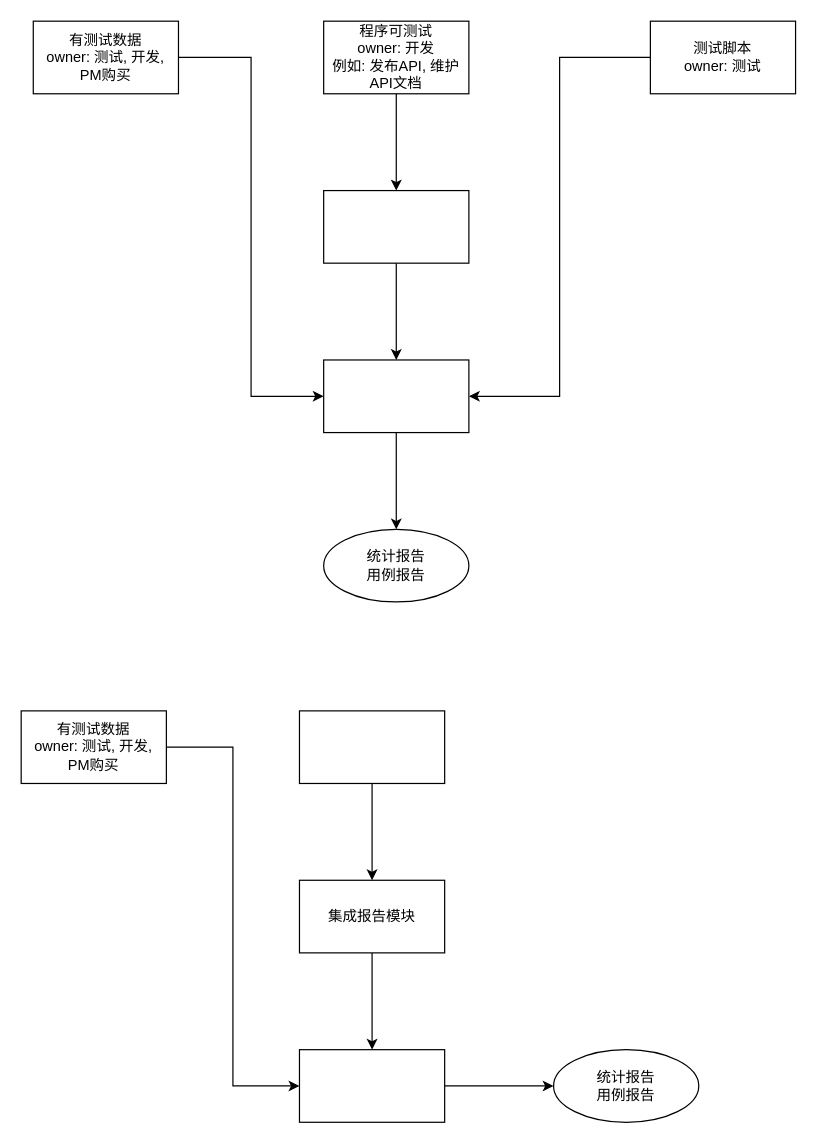
The diagram is 817 pixels wide and 1143 high, and some of its shapes have lost their labels. Here are the shapes that lost their labels. From the top down, the centre of each, then its label:
[395,226]: 发布
[395,396]: 测试
[371,746]: 模型可执行
[371,1085]: 自测
